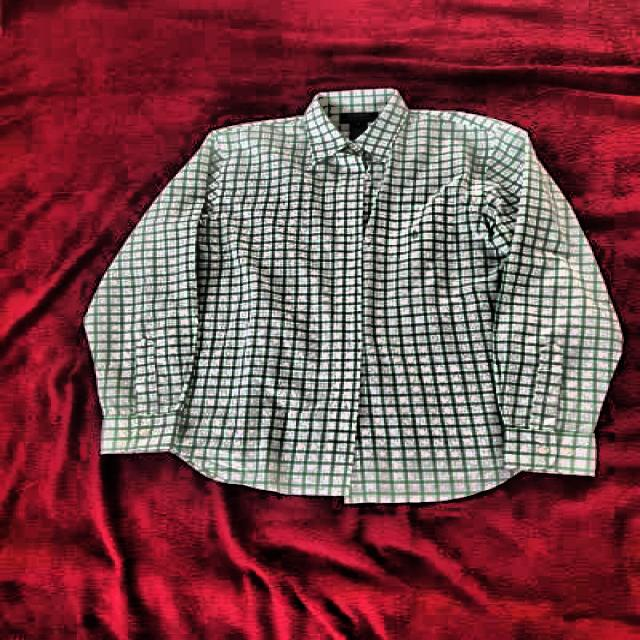clothes: (82, 83, 627, 505)
